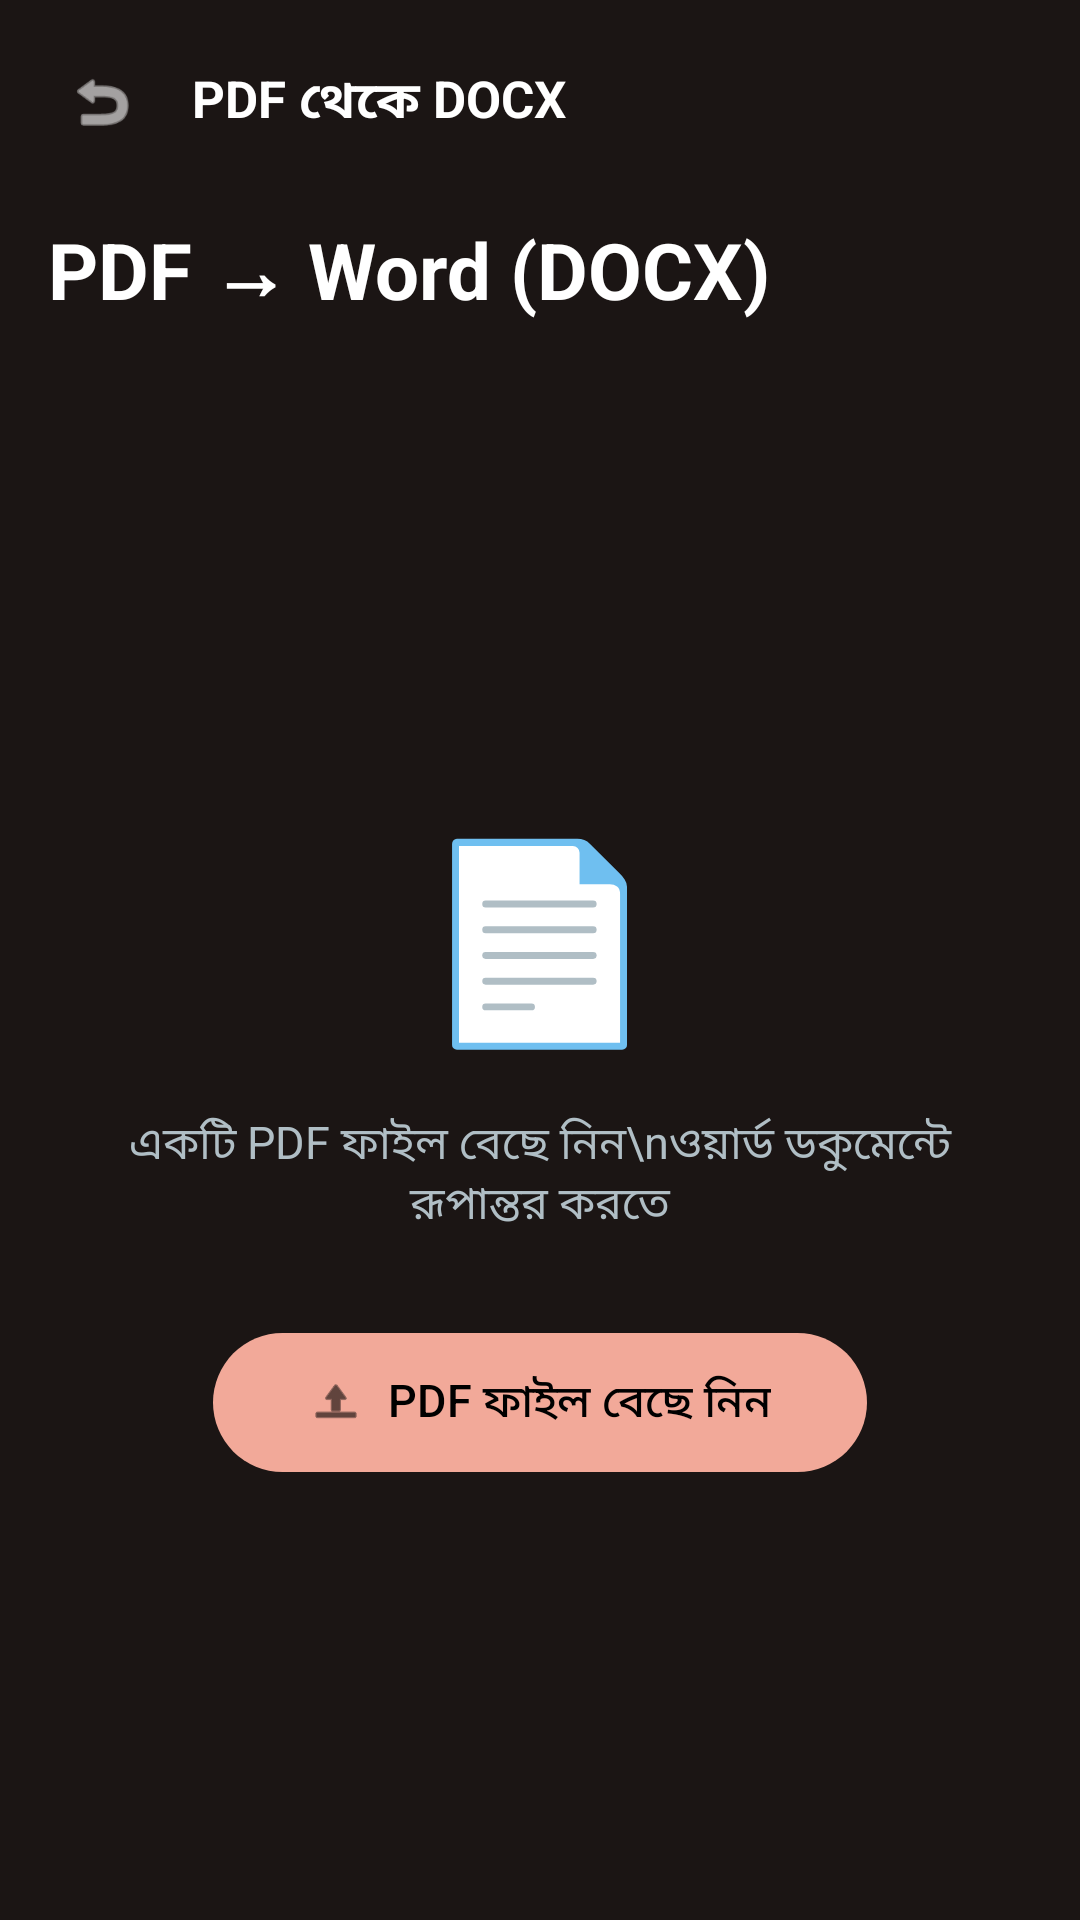

Icon bounding boxes for this 1080 x 1920 phone screenshot, format region(x1, y1, x2, y2):
পিছনে যান: region(77, 79, 129, 126)
